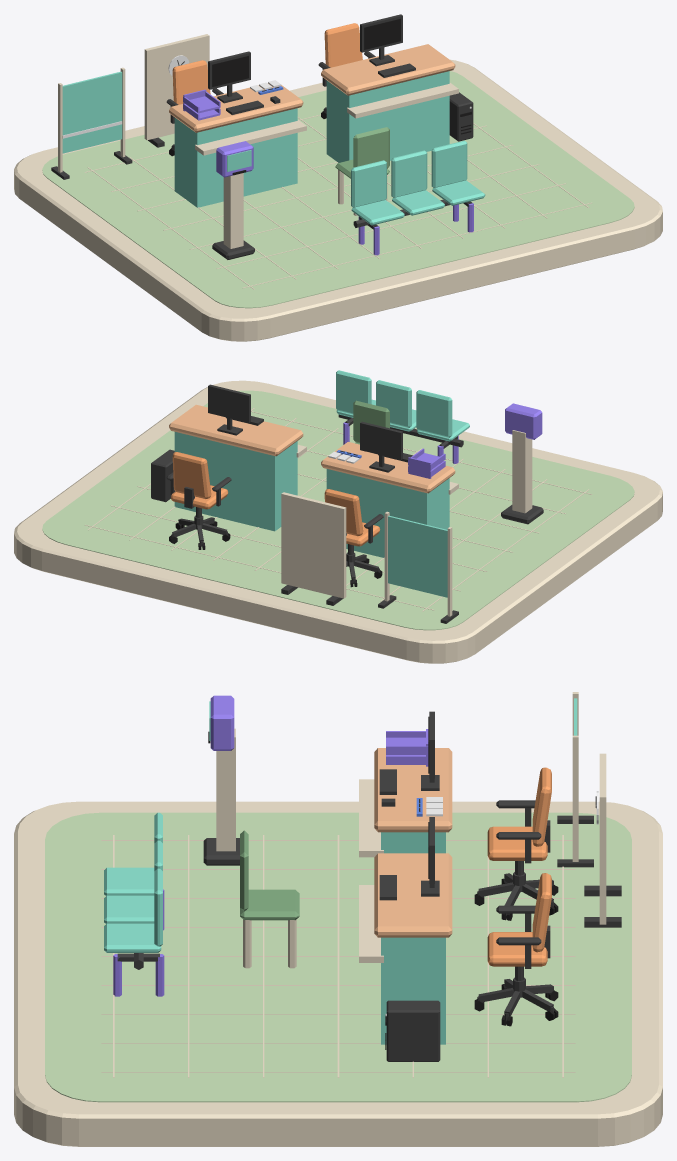
3 views of the same model, one above another, from view 1: azimuth 30°, elevation 25°; view 2: azimuth 150°, elevation 25°; view 3: azimuth 270°, elevation 25° (orthographic). The views are drawn at different scales.
Visible parts, largest first — view 1: COM-02 Floor Surface, COM-01 Rounded Base Direct, Counter body, Counter body.001, Frosted privacy panel, Panel, Countertop.001, Countertop, COM-04_Chair_blender_direct.001, Pedestal, Frame, Frame.001 (+14 smaller); view 2: COM-02 Floor Surface, COM-01 Rounded Base Direct, Counter body.001, Panel, Counter body, Frosted privacy panel, COM-04_Chair_blender_direct.001, Countertop.001, Countertop, COM-04_Chair_blender_direct, Pedestal, Back (+9 smaller); view 3: COM-02 Floor Surface, COM-01 Rounded Base Direct, Countertop.001, COM-04_Chair_blender_direct.001, COM-04_Chair_blender_direct, Counter body.001, Countertop, Tower, Pedestal, Seat.003, Seat.002, Seat.001 (+13 smaller).
Part boxes in pixels (x1,y1,x2,y2): COM-02 Floor Surface: (42, 71, 634, 308); COM-01 Rounded Base Direct: (14, 59, 662, 341); Counter body: (174, 108, 297, 207); Counter body.001: (326, 71, 449, 162); Frosted privacy panel: (62, 71, 122, 153); Panel: (144, 34, 209, 140); Countertop.001: (321, 44, 455, 95); Countertop: (169, 83, 303, 132); COM-04_Chair_blender_direct.001: (318, 23, 375, 118); Pedestal: (223, 173, 243, 248); Frame: (208, 51, 250, 103); Frame.001: (360, 14, 402, 66); COM-02 Floor Surface: (42, 390, 634, 630); COM-01 Rounded Base Direct: (14, 380, 662, 663); Counter body.001: (174, 432, 297, 531); Panel: (281, 492, 346, 598); Counter body: (326, 469, 449, 557); Frosted privacy panel: (388, 515, 447, 597); COM-04_Chair_blender_direct.001: (166, 452, 231, 549); Countertop.001: (169, 404, 303, 456); Countertop: (321, 442, 455, 493); COM-04_Chair_blender_direct: (324, 489, 383, 587); Pedestal: (512, 430, 532, 513); Back: (416, 390, 452, 437); COM-02 Floor Surface: (45, 812, 631, 1102); COM-01 Rounded Base Direct: (14, 801, 662, 1146); Countertop.001: (374, 853, 452, 937); COM-04_Chair_blender_direct.001: (474, 873, 558, 1026); COM-04_Chair_blender_direct: (474, 767, 558, 920); Counter body.001: (381, 937, 445, 1044); Countertop: (374, 748, 452, 832); Tower: (386, 1000, 440, 1061); Pedestal: (216, 728, 235, 851); Seat.003: (240, 889, 299, 920); Seat.002: (104, 923, 161, 952); Seat.001: (104, 895, 154, 923).
Size of the model in its own units: 6 by 1.87 by 5.2.
1 material, 1 textured.
